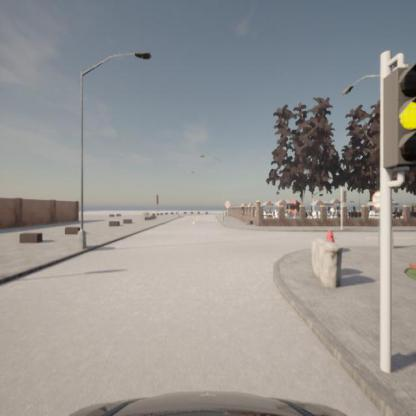traffic_light_orange: (382, 65, 416, 169)
